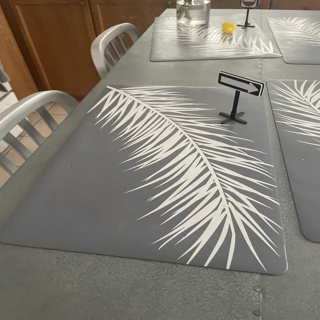sign_oneway_right: (215, 68, 262, 97)
